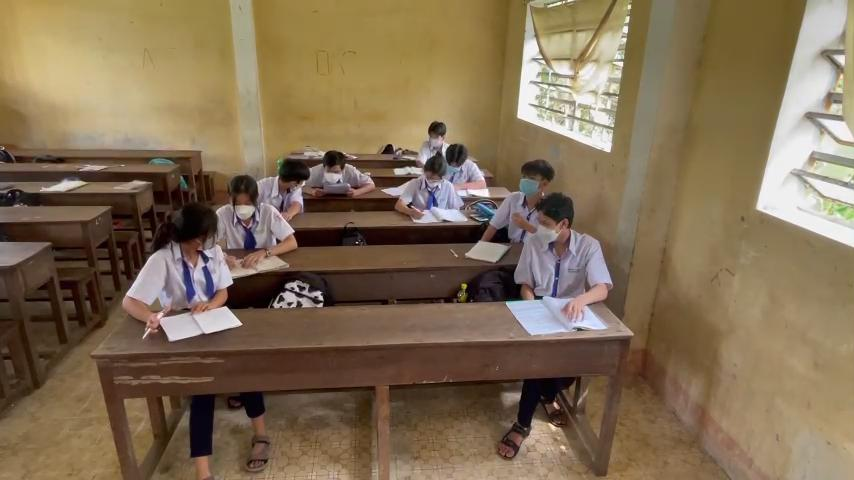Hand Under Table: (510, 234, 537, 300), (477, 189, 509, 243), (443, 179, 469, 215)
Look Around: (523, 188, 584, 251), (164, 197, 224, 260), (267, 141, 316, 198)
